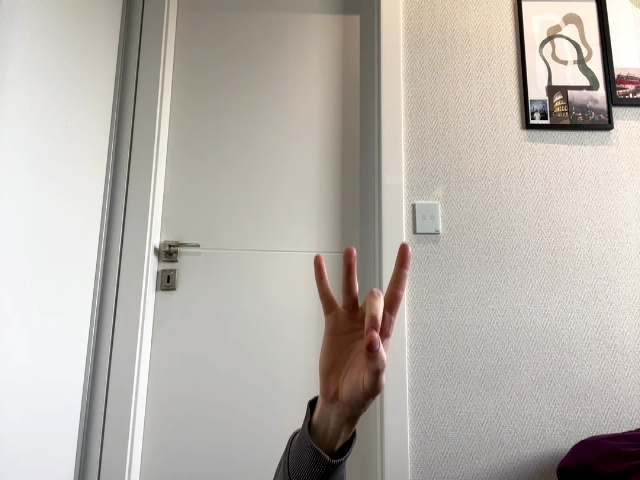G: (314, 243, 412, 397)
